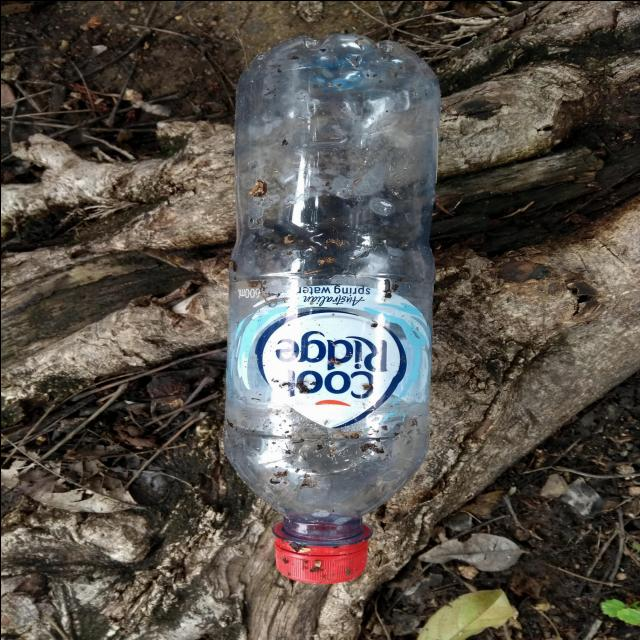Clear plastic bottle: (222, 32, 440, 584)
Plastic bottle cap: (274, 543, 367, 583)
